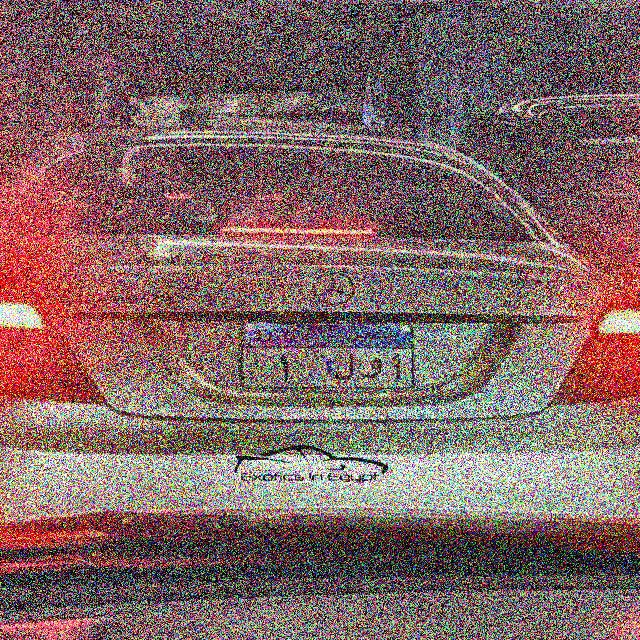License Plate: (237, 320, 418, 393)
